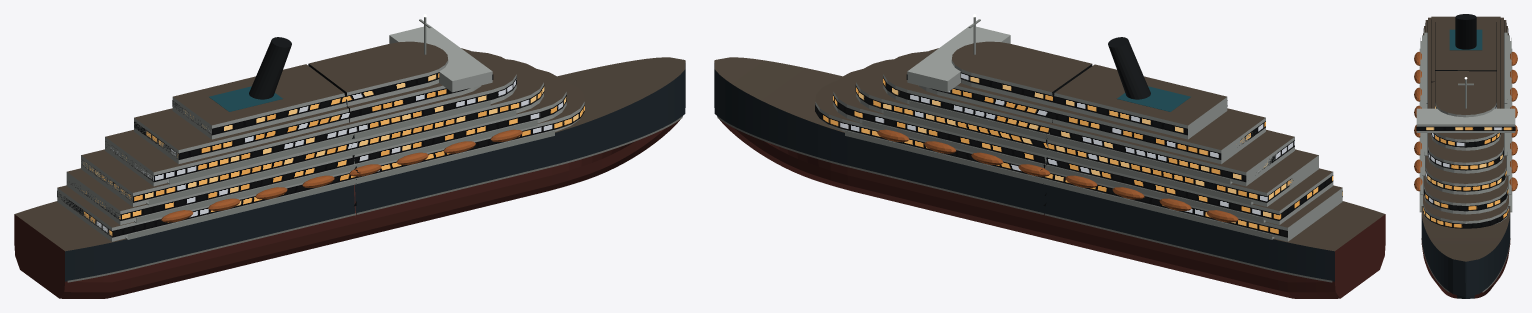
The model's file is cruise_ship.glb.
The picture shows the model from 3 angles, left to right: view 1: azimuth 30°, elevation 25°; view 2: azimuth 150°, elevation 25°; view 3: azimuth 270°, elevation 25°; orthographic projection. The views are drawn at different scales.
Parts seen in each view (by area): view 1: Popa, Proa; view 2: Popa, Proa; view 3: Proa, Popa.
Boxes of the visible parts, x1,y1,x2,y2 form: Popa: [14, 37, 360, 298]; Proa: [308, 14, 685, 240]; Popa: [1040, 37, 1385, 298]; Proa: [714, 14, 1092, 239]; Proa: [1414, 71, 1517, 298]; Popa: [1414, 14, 1517, 125].
Bounding box in the file's own units: 144 × 41 × 25.7.
Materials: 18 (7 with a texture image).
